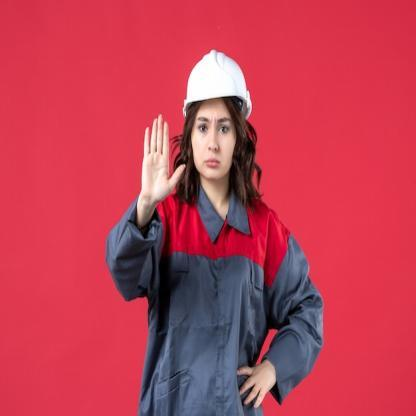stop: (140, 113, 186, 203)
